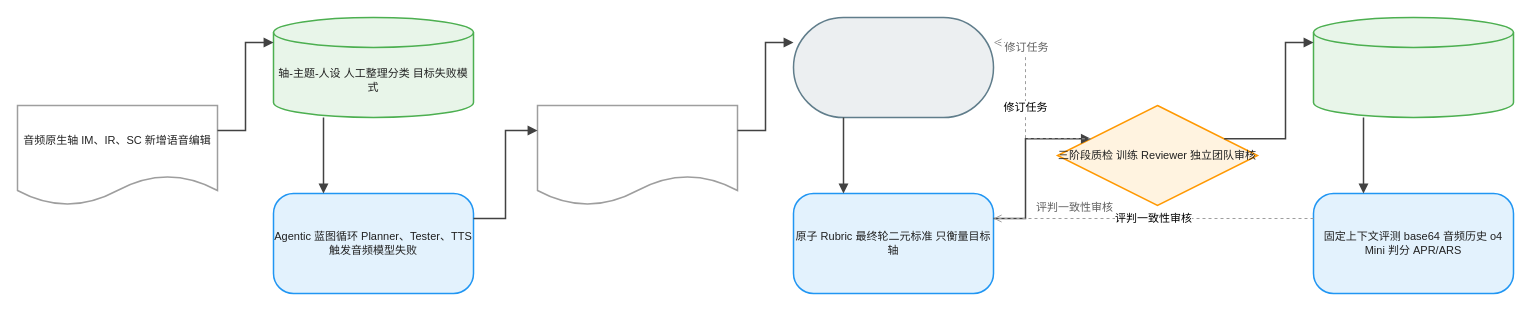
Image size: 1532x312. Some labels were removed from this diagram. Here are the shapes that lost their labels. From the top down, the centre of each, then its label:
point 893,67: 人类录音 3 到 8 轮 无脚本自然语音
point 1413,67: AudioMC 数据集 452 段对话 47 说话人 / 1,712 Rubric
point 637,155: 人类可用蓝图 提取核心陷阱 轴专属指引
